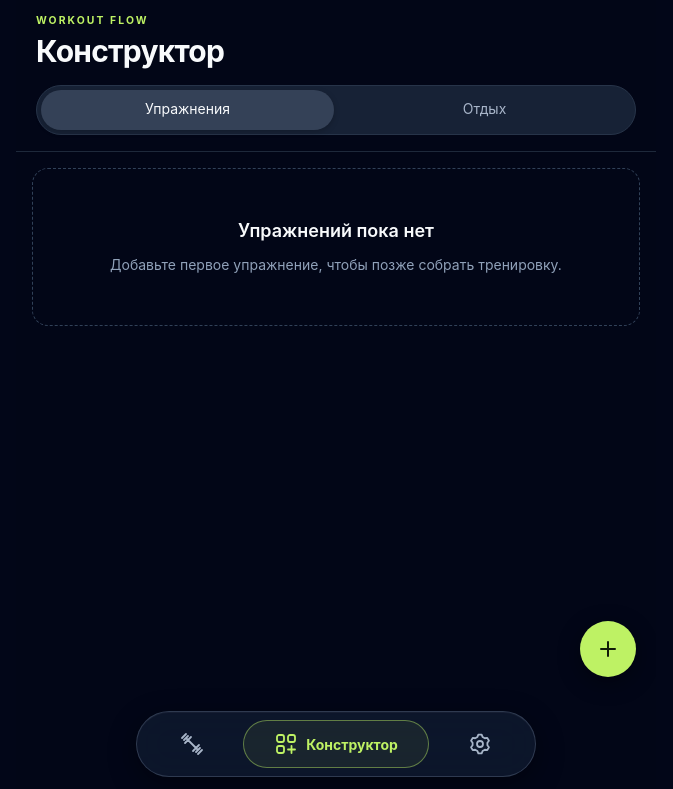
exercise catalog › cancels exercise creation without submitting or changing the route
Expected: the heading "Упражнений пока нет" is shown, [238,220,434,241]
Click the button named "Добавить упражнение": (608, 649) [580,621,636,677]
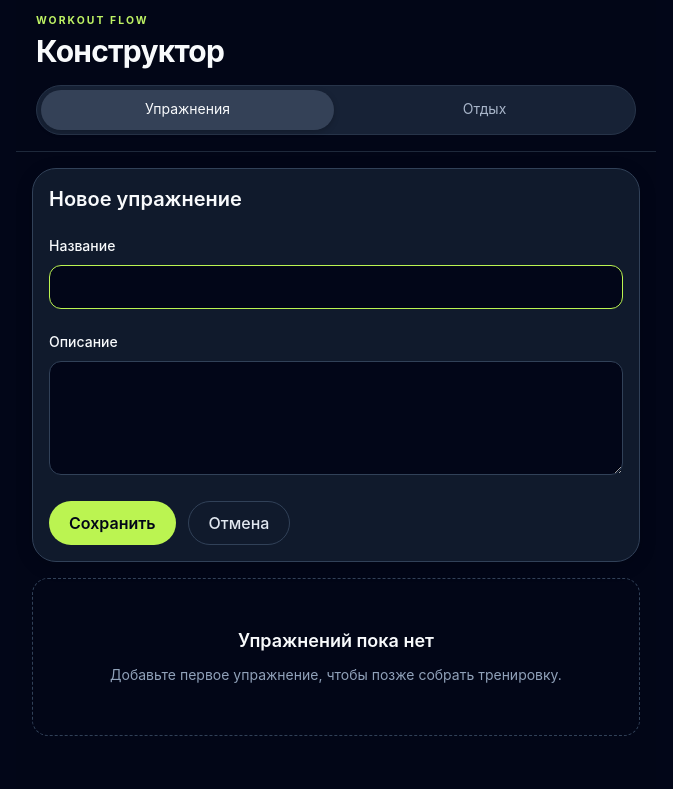
Click the button "Отмена": (239, 523) [188,501,290,545]
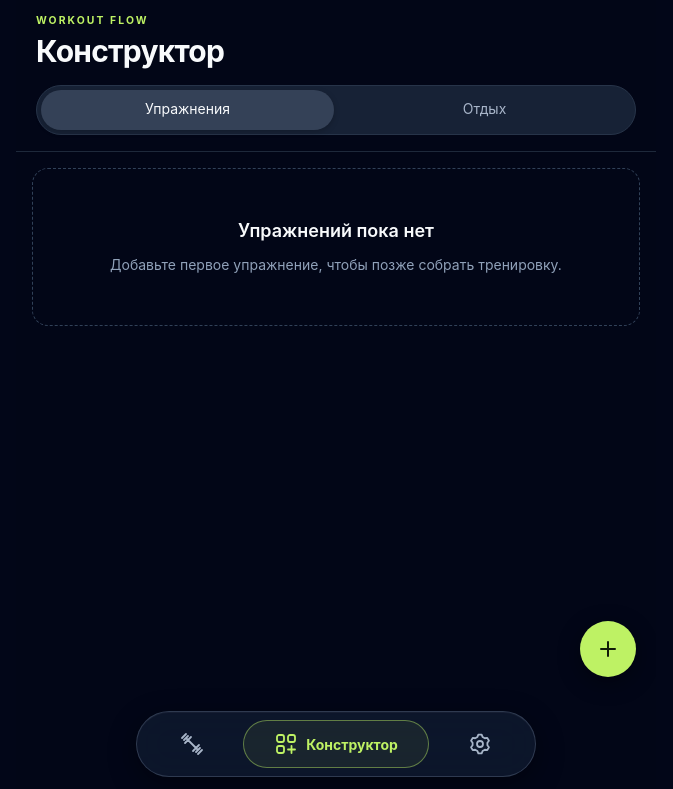
Result: the heading "Новое упражнение" is gone
